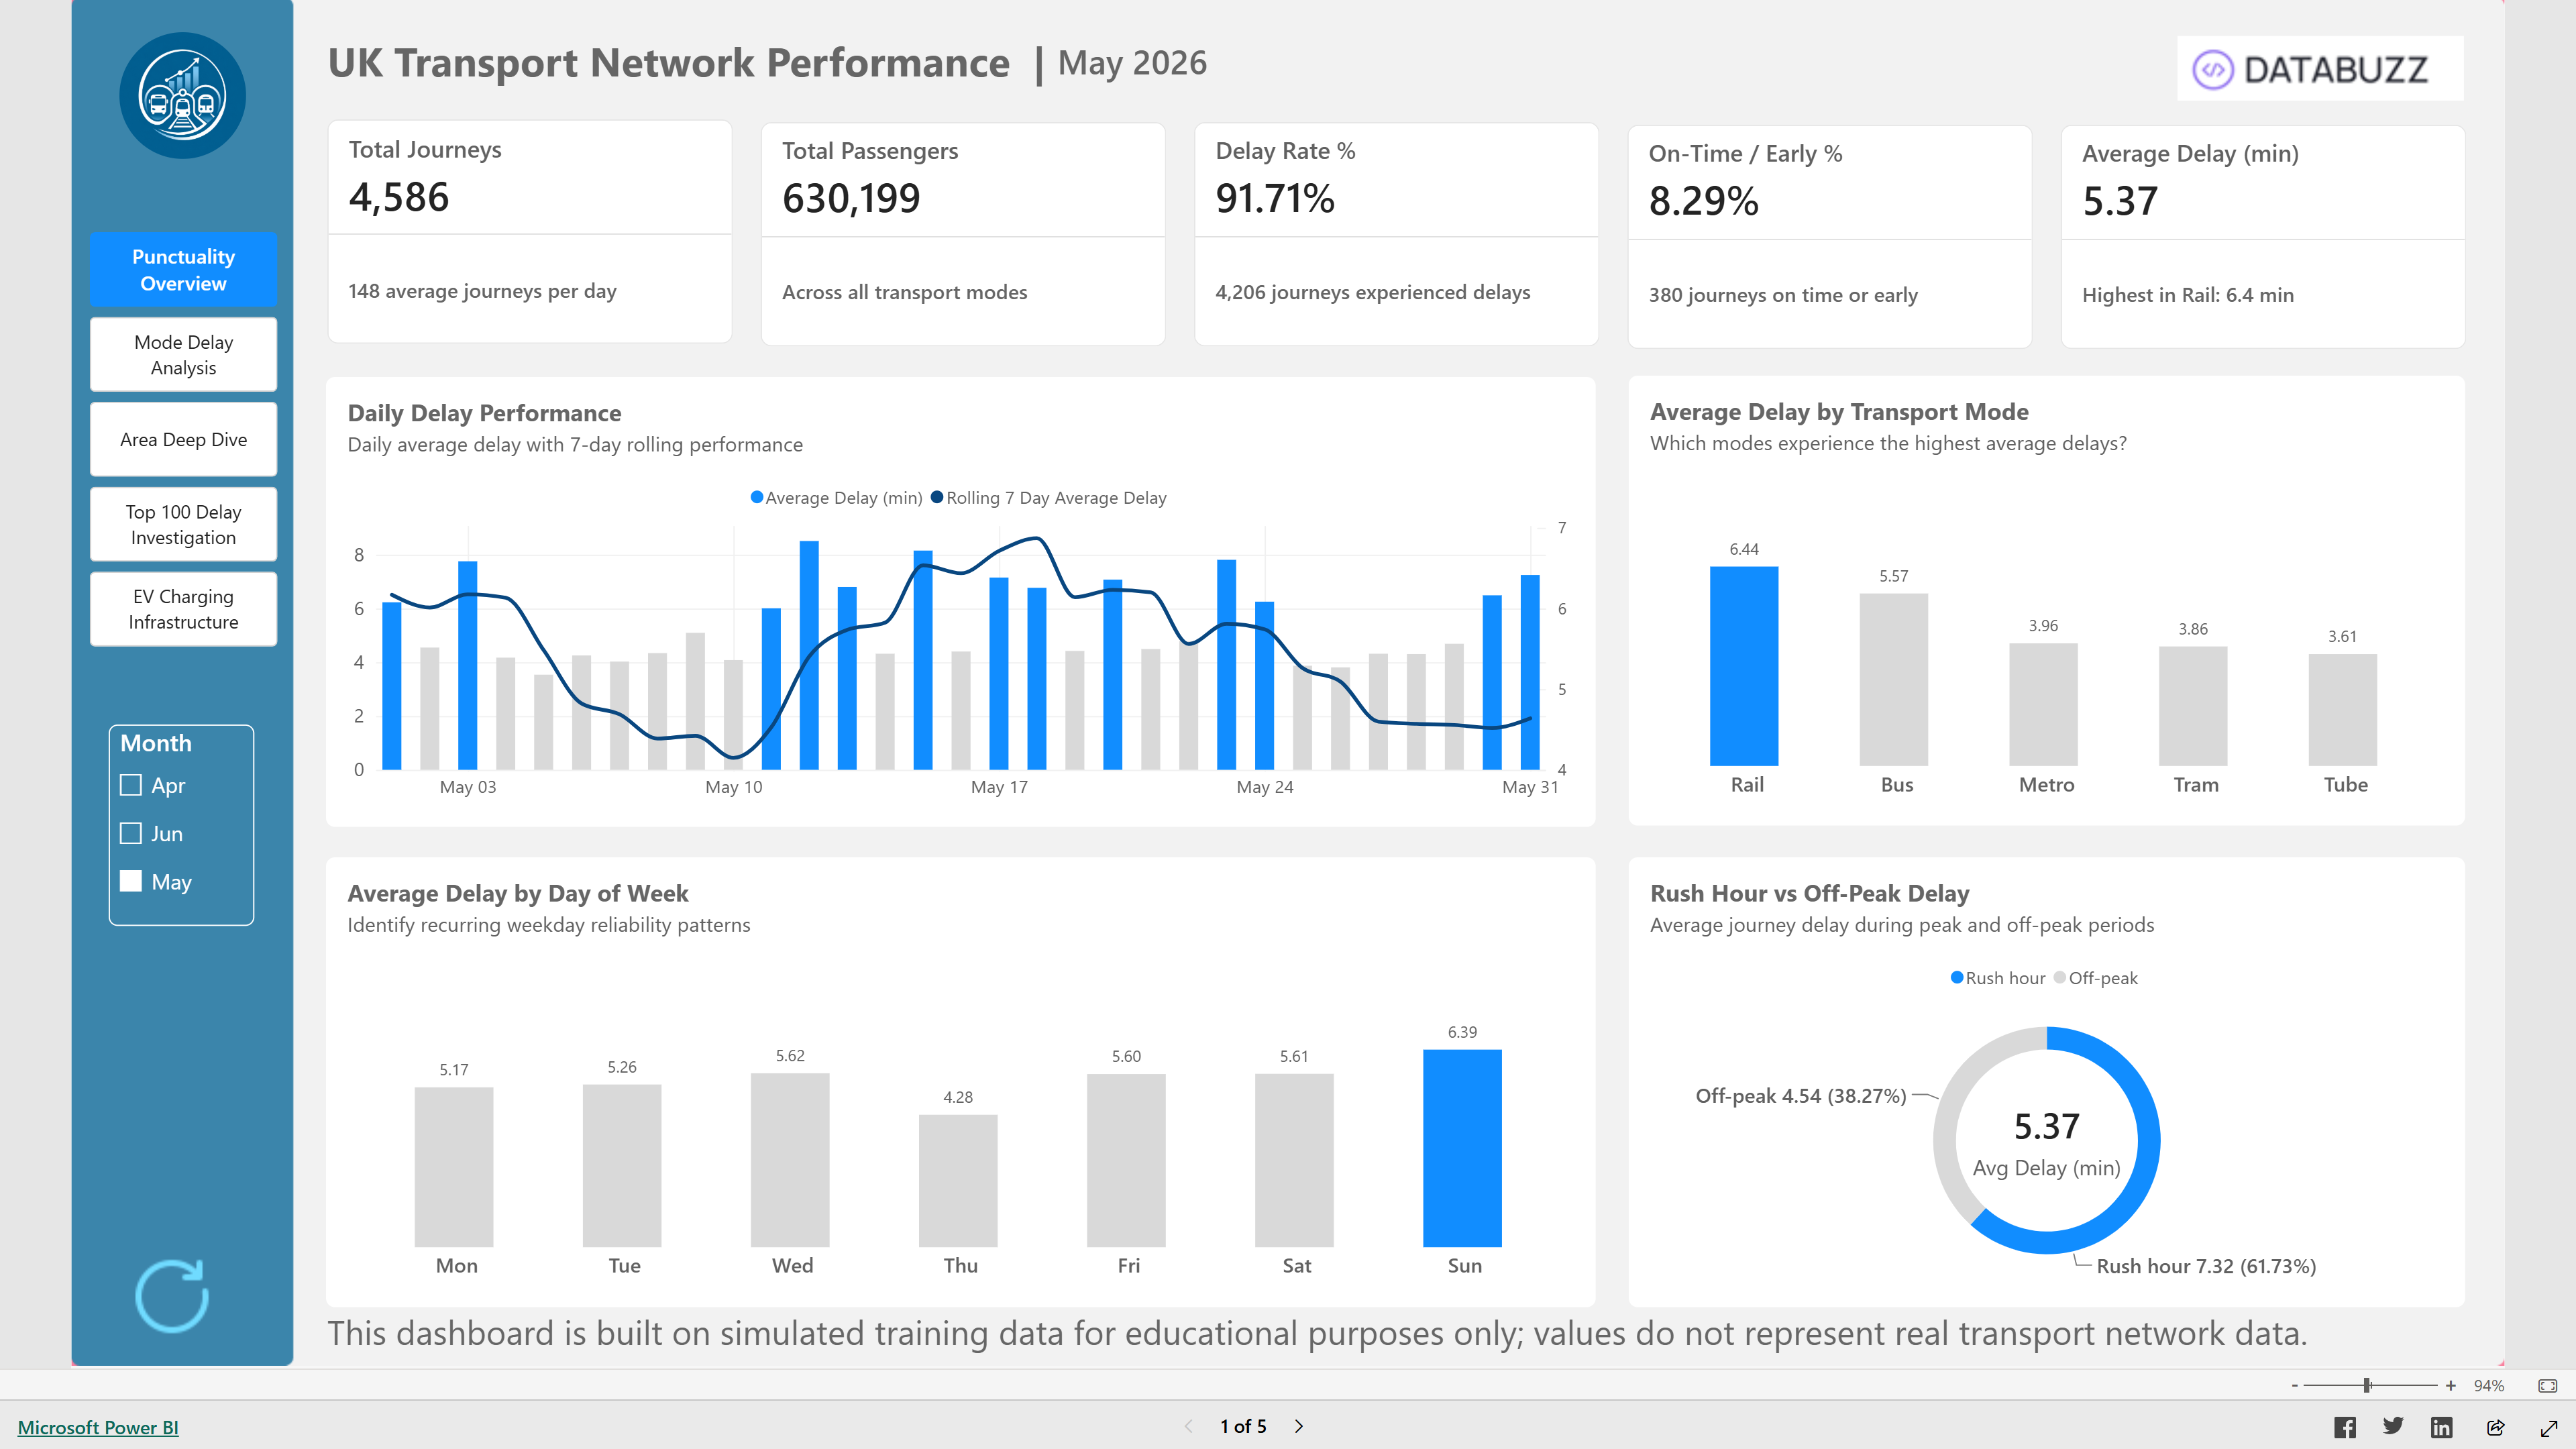

What the dashboard file says about the page in this screenshot:
{"tool":"powerbi","page":{"name":"Punctuality Overview","canvas":[1920,1080],"ordinal":0},"visuals":[{"type":"cardVisual","fields":{"Data":["Calculations.Total Journeys"]},"box":[202.5,93.9,320,177.4],"z":0},{"type":"cardVisual","fields":{"Data":["Calculations.Total Passengers"]},"box":[544.4,95.9,320,177.4],"z":1},{"type":"cardVisual","fields":{"Data":["Calculations.Delay Rate %"]},"box":[886.3,95.9,320,177.4],"z":2},{"type":"cardVisual","fields":{"Data":["Calculations.On-Time / Early %"]},"box":[1228.2,98,320,177.4],"z":3},{"type":"cardVisual","fields":{"Data":["Calculations.Average Delay (min)"]},"box":[1570,98.9,320,177.4],"z":4},{"type":"image","box":[1662.5,25.5,226.2,57.5],"z":5},{"type":"textbox","box":[202.5,25,897.5,57.5],"z":6},{"type":"cardVisual","fields":{"Data":["Calculations.Selected Period"]},"box":[762.5,0,320,95],"z":7},{"type":"lineClusteredColumnComboChart","title":"Daily Delay Performance","fields":{"Category":["Calendar.Date"],"Y":["Calculations.Average Delay (min)"],"Y2":["Calculations.Rolling 7 Day Average Delay"]},"box":[201.4,297,1002.3,355],"z":8},{"type":"clusteredColumnChart","title":"Average Delay by Transport Mode","fields":{"Category":["dim_routes.mode"],"Y":["Calculations.Average Delay (min)"]},"box":[1229.1,296.4,660,355],"z":10},{"type":"donutChart","title":"Rush Hour vs Off-Peak Delay","fields":{"Category":["fact_journeys.Is Rush Hour"],"Y":["Calculations.Average Delay (min)"]},"box":[1228.9,676.9,660,355],"z":11},{"type":"clusteredColumnChart","title":"Average Delay by Day of Week","fields":{"Category":["Calendar.Day Short"],"Y":["Calculations.Average Delay (min)"]},"box":[201.4,676.9,1002.3,354.7],"z":12},{"type":"textbox","box":[202.5,1032.5,1652.5,47.5],"z":13},{"type":"slicer","fields":{"Values":["Calendar.Month"]},"box":[29.8,571.9,114.8,159.4],"z":14},{"type":"image","box":[38.3,25.5,99.9,99.9],"z":15},{"type":"pageNavigator","box":[14.9,182.8,148.8,329.5],"z":16},{"type":"image","box":[21.3,984.3,116.9,76.5],"z":17}]}

Visuals, with their boxes on the page's 1920x1080 design canvas (x1, y1, x2, y2). These are canvas units, not pixel positions in the 2576x1449 screenshot, which may show the page scaled, cropped or inside an application window:
cardVisual - Calculations.Total Journeys: box=[202, 94, 522, 271]
cardVisual - Calculations.Total Passengers: box=[544, 96, 864, 273]
cardVisual - Calculations.Delay Rate %: box=[886, 96, 1206, 273]
cardVisual - Calculations.On-Time / Early %: box=[1228, 98, 1548, 275]
cardVisual - Calculations.Average Delay (min): box=[1570, 99, 1890, 276]
image: box=[1662, 26, 1889, 83]
textbox: box=[202, 25, 1100, 82]
cardVisual - Calculations.Selected Period: box=[762, 0, 1082, 95]
"Daily Delay Performance" lineClusteredColumnComboChart: box=[201, 297, 1204, 652]
"Average Delay by Transport Mode" clusteredColumnChart: box=[1229, 296, 1889, 651]
"Rush Hour vs Off-Peak Delay" donutChart: box=[1229, 677, 1889, 1032]
"Average Delay by Day of Week" clusteredColumnChart: box=[201, 677, 1204, 1032]
textbox: box=[202, 1032, 1855, 1080]
slicer - Calendar.Month: box=[30, 572, 145, 731]
image: box=[38, 26, 138, 125]
pageNavigator: box=[15, 183, 164, 512]
image: box=[21, 984, 138, 1061]
